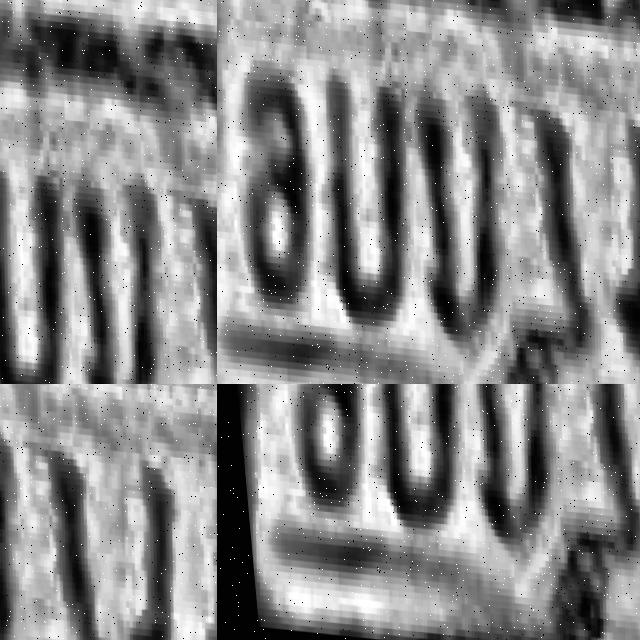license-plate: (217, 44, 549, 384), (217, 384, 640, 640), (0, 16, 217, 384), (0, 384, 217, 640)
